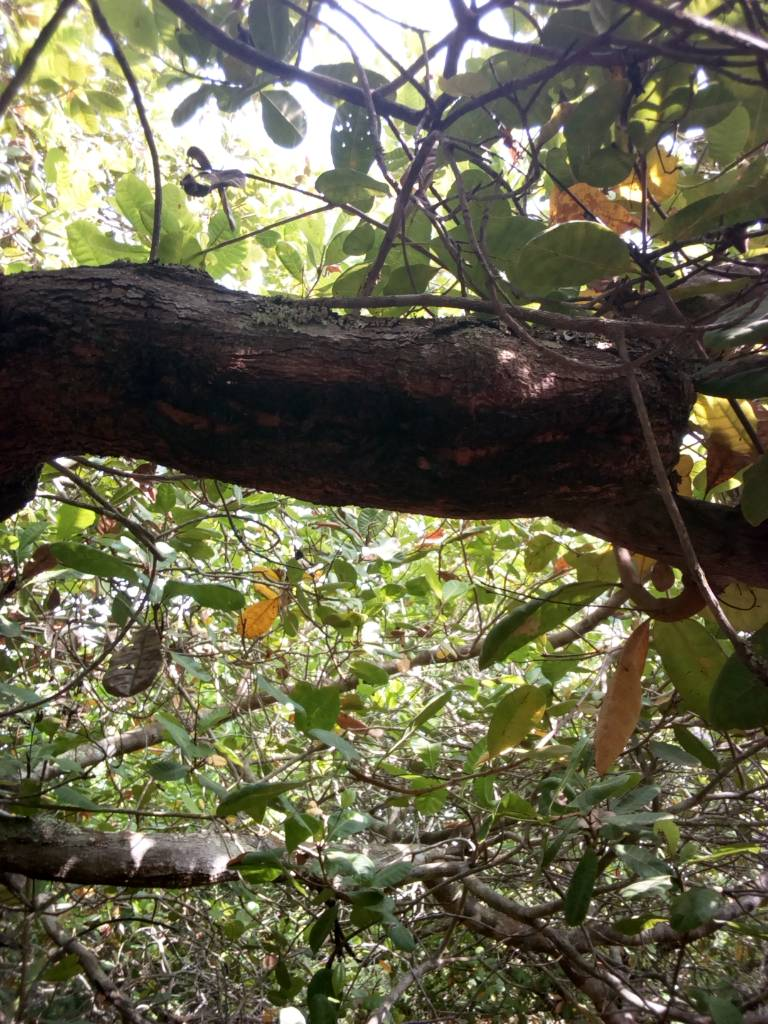Termites: (107, 330, 650, 521)
